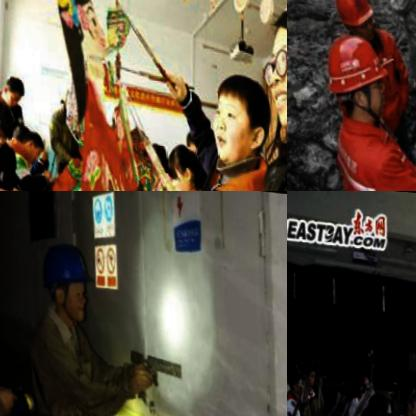head: (202, 64, 273, 166), (257, 0, 287, 132), (157, 138, 196, 191), (0, 73, 24, 111), (15, 127, 38, 164), (397, 381, 416, 416), (368, 387, 390, 416), (0, 98, 12, 151), (287, 367, 301, 392), (299, 362, 314, 383)
helmet: (325, 32, 391, 127), (37, 233, 93, 321), (327, 0, 377, 42)
